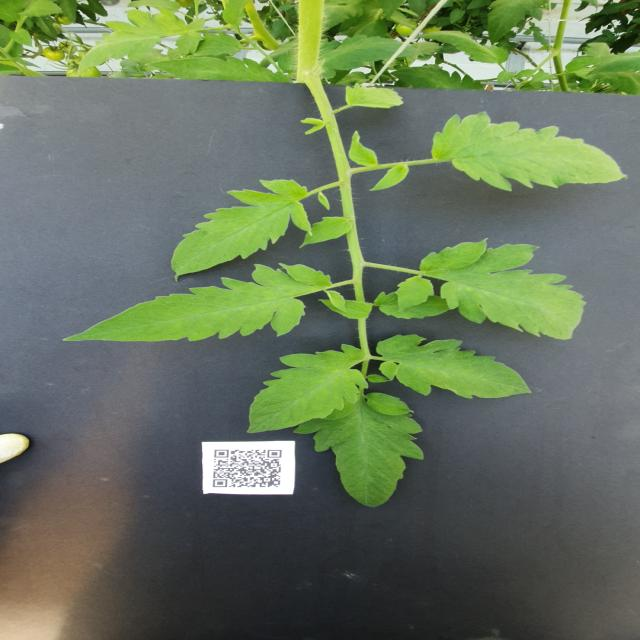Healthy Leaf: (63, 263, 336, 347), (394, 237, 590, 343), (431, 109, 632, 195), (158, 178, 315, 279), (303, 402, 430, 511), (245, 344, 369, 434), (376, 334, 539, 401), (75, 8, 207, 77), (143, 56, 296, 85), (485, 1, 546, 45), (390, 67, 485, 90)
